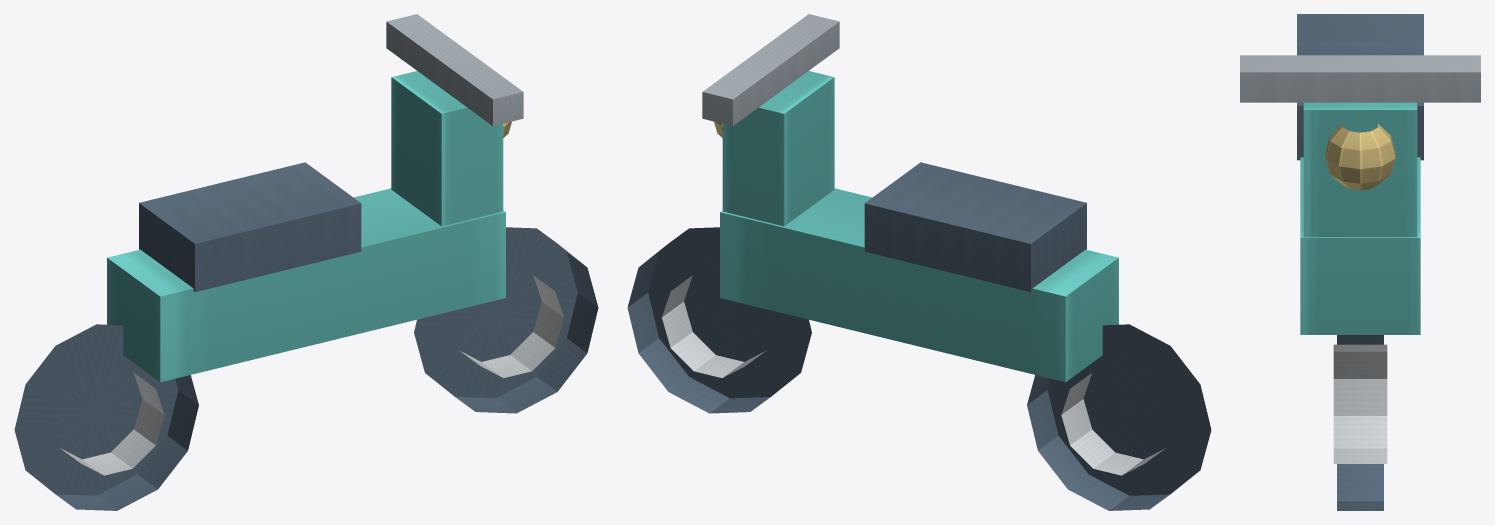
File: scooter.glb
The picture shows the model from 3 angles, left to right: view 1: azimuth 30°, elevation 25°; view 2: azimuth 150°, elevation 25°; view 3: azimuth 270°, elevation 25°; orthographic projection. The views are drawn at different scales.
Visible parts, largest first — view 1: scooter; view 2: scooter; view 3: scooter.
Boxes of the visible parts, bbox=[...] form: scooter: bbox=[14, 14, 598, 510]; scooter: bbox=[627, 14, 1211, 510]; scooter: bbox=[1240, 14, 1480, 510].
Bounding box in the file's own units: 2.2 × 1.35 × 0.72.
Materials: 1 (1 with a texture image).
